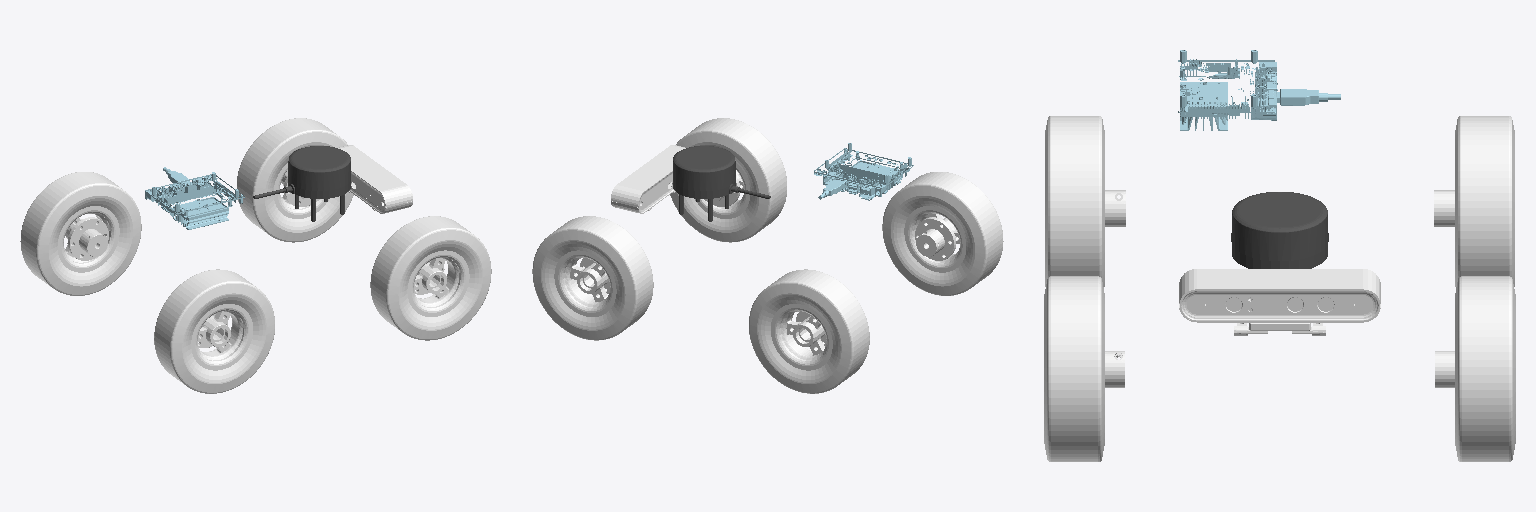
The robot description file, URDF, robot "senior_4wd_bs_robot":
<?xml version="1.0" encoding="utf-8"?>
<!-- This URDF was automatically created by SolidWorks to URDF Exporter! Originally created by [author] ([email redacted]) 
     Commit Version: 1.6.0-4-g7f85cfe  Build Version: 1.6.7995.38578
     For more information, please see http://wiki.ros.org/sw_urdf_exporter -->
<robot
  name="senior_4wd_bs_robot">
  <link
    name="base_link">
    <inertial>
      <origin
        xyz="-0.0446087958104558 0.00269481520496949 0.061341677182674"
        rpy="0 0 0" />
      <mass
        value="2.14965380626386" />
      <inertia
        ixx="0.00456533864041302"
        ixy="2.66483841196418E-05"
        ixz="-1.68910277144345E-06"
        iyy="0.00741917401925551"
        iyz="-5.24979552758434E-07"
        izz="0.0114787343272924" />
    </inertial>
    <visual>
      <origin
        xyz="0 0 0"
        rpy="0 0 0" />
      <geometry>
        <mesh
          filename="package://wheeltec_robot_urdf/meshes/senior_4wd_bs_robot_meshes/base_link.STL" />
      </geometry>
      <material
        name="">
        <color
          rgba="0.741176470588235 0.901960784313726 0.956862745098039 1" />
      </material>
    </visual>
    <collision>
      <origin
        xyz="0 0 0"
        rpy="0 0 0" />
      <geometry>
        <mesh
          filename="package://wheeltec_robot_urdf/meshes/senior_4wd_bs_robot_meshes/base_link.STL" />
      </geometry>
    </collision>
  </link>
  <link
    name="lf_wheel_link">
    <inertial>
      <origin
        xyz="-4.6620746205206E-07 -1.64222714538198E-07 -2.14743634679992E-09"
        rpy="0 0 0" />
      <mass
        value="0.700493347391114" />
      <inertia
        ixx="0.00126082592198867"
        ixy="4.29165992533056E-08"
        ixz="1.61999396410463E-08"
        iyy="0.00230181553925365"
        iyz="2.44665455605375E-08"
        izz="0.00126081885973785" />
    </inertial>
    <visual>
      <origin
        xyz="0 0 0"
        rpy="0 0 0" />
      <geometry>
        <mesh
          filename="package://wheeltec_robot_urdf/meshes/senior_4wd_bs_robot_meshes/lf_wheel_link.STL" />
      </geometry>
      <material
        name="">
        <color
          rgba="1 1 1 1" />
      </material>
    </visual>
    <collision>
      <origin
        xyz="0 0 0"
        rpy="0 0 0" />
      <geometry>
        <mesh
          filename="package://wheeltec_robot_urdf/meshes/senior_4wd_bs_robot_meshes/lf_wheel_link.STL" />
      </geometry>
    </collision>
  </link>
  <joint
    name="lf_wheel_joint"
    type="continuous">
    <origin
      xyz="0.155179518918731 0.16752320240713 0.025003"
      rpy="0 0 0" />
    <parent
      link="base_link" />
    <child
      link="lf_wheel_link" />
    <axis
      xyz="0 -1 0" />
  </joint>
  <link
    name="lb_wheel_link">
    <inertial>
      <origin
        xyz="-1.94702781119993E-07 -1.64220044479579E-07 4.61443023527797E-07"
        rpy="0 0 0" />
      <mass
        value="0.700493347391115" />
      <inertia
        ixx="0.00126082905128089"
        ixy="4.51323752033432E-08"
        ixz="1.51837323476689E-08"
        iyy="0.00230181553925365"
        iyz="2.00876840782324E-08"
        izz="0.00126081573044563" />
    </inertial>
    <visual>
      <origin
        xyz="0 0 0"
        rpy="0 0 0" />
      <geometry>
        <mesh
          filename="package://wheeltec_robot_urdf/meshes/senior_4wd_bs_robot_meshes/lb_wheel_link.STL" />
      </geometry>
      <material
        name="">
        <color
          rgba="1 1 1 1" />
      </material>
    </visual>
    <collision>
      <origin
        xyz="0 0 0"
        rpy="0 0 0" />
      <geometry>
        <mesh
          filename="package://wheeltec_robot_urdf/meshes/senior_4wd_bs_robot_meshes/lb_wheel_link.STL" />
      </geometry>
    </collision>
  </link>
  <joint
    name="lb_wheel_joint"
    type="continuous">
    <origin
      xyz="-0.157520481081269 0.167223202407132 0.024002"
      rpy="0 0 0" />
    <parent
      link="base_link" />
    <child
      link="lb_wheel_link" />
    <axis
      xyz="0 -1 0" />
  </joint>
  <link
    name="rb_wheel_link">
    <inertial>
      <origin
        xyz="-4.33820751405412E-07 1.64220044451824E-07 -4.49810529101757E-08"
        rpy="0 0 0" />
      <mass
        value="0.700493347391114" />
      <inertia
        ixx="0.00126080622456788"
        ixy="-2.36929272773458E-09"
        ixz="3.68208968939547E-09"
        iyy="0.00230181553925365"
        iyz="4.93440249161481E-08"
        izz="0.00126083855715865" />
    </inertial>
    <visual>
      <origin
        xyz="0 0 0"
        rpy="0 0 0" />
      <geometry>
        <mesh
          filename="package://wheeltec_robot_urdf/meshes/senior_4wd_bs_robot_meshes/rb_wheel_link.STL" />
      </geometry>
      <material
        name="">
        <color
          rgba="1 1 1 1" />
      </material>
    </visual>
    <collision>
      <origin
        xyz="0 0 0"
        rpy="0 0 0" />
      <geometry>
        <mesh
          filename="package://wheeltec_robot_urdf/meshes/senior_4wd_bs_robot_meshes/rb_wheel_link.STL" />
      </geometry>
    </collision>
  </link>
  <joint
    name="rb_wheel_joint"
    type="continuous">
    <origin
      xyz="-0.15752548108127 -0.165888797592868 0.023994"
      rpy="0 0 0" />
    <parent
      link="base_link" />
    <child
      link="rb_wheel_link" />
    <axis
      xyz="0 1 0" />
  </joint>
  <link
    name="rf_wheel_link">
    <inertial>
      <origin
        xyz="1.64523701495778E-07 1.64222714454931E-07 1.35831159653321E-08"
        rpy="0 0 0" />
      <mass
        value="0.700493347391115" />
      <inertia
        ixx="0.00126080581580217"
        ixy="-7.25345811553059E-09"
        ixz="4.17421610011383E-10"
        iyy="0.00230181553925365"
        iyz="4.88654651917594E-08"
        izz="0.00126083896592436" />
    </inertial>
    <visual>
      <origin
        xyz="0 0 0"
        rpy="0 0 0" />
      <geometry>
        <mesh
          filename="package://wheeltec_robot_urdf/meshes/senior_4wd_bs_robot_meshes/rf_wheel_link.STL" />
      </geometry>
      <material
        name="">
        <color
          rgba="1 1 1 1" />
      </material>
    </visual>
    <collision>
      <origin
        xyz="0 0 0"
        rpy="0 0 0" />
      <geometry>
        <mesh
          filename="package://wheeltec_robot_urdf/meshes/senior_4wd_bs_robot_meshes/rf_wheel_link.STL" />
      </geometry>
    </collision>
  </link>
  <joint
    name="rf_wheel_joint"
    type="continuous">
    <origin
      xyz="0.15517451891873 -0.16618879759287 0.024994"
      rpy="0 0 0" />
    <parent
      link="base_link" />
    <child
      link="rf_wheel_link" />
    <axis
      xyz="0 1 0" />
  </joint>
  <link
    name="camera_link">
    <inertial>
      <origin
        xyz="3.37966248653565E-07 -3.4861597831972E-07 1.07624234874787E-07"
        rpy="0 0 0" />
      <mass
        value="0.0559842512080113" />
      <inertia
        ixx="0.000130810959339214"
        ixy="1.20255128206175E-07"
        ixz="1.62335437080103E-06"
        iyy="1.91148634967895E-05"
        iyz="-2.80016755800559E-08"
        izz="0.000131387469523027" />
    </inertial>
    <visual>
      <origin
        xyz="0 0 0"
        rpy="0 0 0" />
      <geometry>
        <mesh
          filename="package://wheeltec_robot_urdf/meshes/senior_4wd_bs_robot_meshes/camera_link.STL" />
      </geometry>
      <material
        name="">
        <color
          rgba="1 1 1 1" />
      </material>
    </visual>
    <collision>
      <origin
        xyz="0 0 0"
        rpy="0 0 0" />
      <geometry>
        <mesh
          filename="package://wheeltec_robot_urdf/meshes/senior_4wd_bs_robot_meshes/camera_link.STL" />
      </geometry>
    </collision>
  </link>
  <joint
    name="camera_joint"
    type="fixed">
    <origin
      xyz="0.16083451891873 0.000745202407130424 0.089704"
      rpy="0 0 0" />
    <parent
      link="base_link" />
    <child
      link="camera_link" />
    <axis
      xyz="0 0 0" />
  </joint>
  <link
    name="laser_link">
    <inertial>
      <origin
        xyz="0.00239460672191773 -4.3623587241963E-06 0.00454035676176797"
        rpy="0 0 0" />
      <mass
        value="0.0391766918354982" />
      <inertia
        ixx="2.82296075716262E-05"
        ixy="-2.19900342511061E-09"
        ixz="1.07118438626957E-06"
        iyy="3.37984497856379E-05"
        iyz="6.83963624112367E-10"
        izz="4.50920076524856E-05" />
    </inertial>
    <visual>
      <origin
        xyz="0 0 0"
        rpy="0 0 0" />
      <geometry>
        <mesh
          filename="package://wheeltec_robot_urdf/meshes/senior_4wd_bs_robot_meshes/laser.STL" />
      </geometry>
      <material
        name="">
        <color
          rgba="0.376470588235294 0.376470588235294 0.376470588235294 1" />
      </material>
    </visual>
    <collision>
      <origin
        xyz="0 0 0"
        rpy="0 0 0" />
      <geometry>
        <mesh
          filename="package://wheeltec_robot_urdf/meshes/senior_4wd_bs_robot_meshes/laser.STL" />
      </geometry>
    </collision>
  </link>
  <joint
    name="laser_joint"
    type="fixed">
    <origin
      xyz="0.0911278646206001 0.000667202405493635 0.11102418374143"
      rpy="0 0 3.14159265358979" />
    <parent
      link="base_link" />
    <child
      link="laser_link" />
    <axis
      xyz="0 0 0" />
  </joint>
  <link
    name="controller_link">
    <inertial>
      <origin
        xyz="-0.0345544164547887 0.0884587575058604 -0.00475090869119181"
        rpy="0 0 0" />
      <mass
        value="0.00500280353665619" />
      <inertia
        ixx="5.5683668655799E-07"
        ixy="-4.85741212386724E-14"
        ixz="-5.07877537956953E-15"
        iyy="9.83824150757691E-08"
        iyz="3.20815042510472E-14"
        izz="6.06554886179191E-07" />
    </inertial>
    <visual>
      <origin
        xyz="0 0 0"
        rpy="0 0 0" />
      <geometry>
        <mesh
          filename="package://wheeltec_robot_urdf/meshes/senior_4wd_bs_robot_meshes/controller_link.STL" />
      </geometry>
      <material
        name="">
        <color
          rgba="0.741176470588235 0.901960784313726 0.956862745098039 1" />
      </material>
    </visual>
    <collision>
      <origin
        xyz="0 0 0"
        rpy="0 0 0" />
      <geometry>
        <mesh
          filename="package://wheeltec_robot_urdf/meshes/senior_4wd_bs_robot_meshes/controller_link.STL" />
      </geometry>
    </collision>
  </link>
  <joint
    name="controller_joint"
    type="fixed">
    <origin
      xyz="-0.072154314146756 -0.0796936307243407 0.155"
      rpy="0 0 0" />
    <parent
      link="base_link" />
    <child
      link="controller_link" />
    <axis
      xyz="0 0 0" />
  </joint>
</robot>

--- Render facts (derived) ---
The picture shows the robot from 3 angles, left to right: view 1: azimuth 30°, elevation 25°; view 2: azimuth 150°, elevation 25°; view 3: azimuth 270°, elevation 25°; orthographic projection.
Model senior_4wd_bs_robot with 8 links and 7 joints (4 continuous, 3 fixed), rooted at base_link, posed all joints at 0.
Links seen in each view (by area): view 1: rb_wheel_link, rf_wheel_link, lb_wheel_link, lf_wheel_link, laser_link, controller_link, camera_link; view 2: lf_wheel_link, lb_wheel_link, rb_wheel_link, rf_wheel_link, laser_link, controller_link, camera_link; view 3: lf_wheel_link, rf_wheel_link, camera_link, lb_wheel_link, rb_wheel_link, laser_link, controller_link.
Boxes of the visible links, box(x1,y1,x2,y2) form: rb_wheel_link: box(154, 269, 274, 393); rf_wheel_link: box(370, 216, 491, 340); lb_wheel_link: box(20, 172, 141, 295); lf_wheel_link: box(237, 118, 353, 242); laser_link: box(253, 146, 350, 221); controller_link: box(145, 167, 244, 229); camera_link: box(338, 145, 412, 213); lf_wheel_link: box(532, 216, 653, 340); lb_wheel_link: box(749, 269, 869, 393); rb_wheel_link: box(882, 172, 1003, 295); rf_wheel_link: box(670, 118, 786, 242); laser_link: box(673, 146, 770, 221); controller_link: box(814, 143, 913, 200); camera_link: box(611, 145, 685, 213); lf_wheel_link: box(1435, 276, 1515, 461); rf_wheel_link: box(1044, 276, 1124, 461); camera_link: box(1179, 269, 1380, 335); lb_wheel_link: box(1434, 116, 1514, 286); rb_wheel_link: box(1045, 116, 1125, 286); laser_link: box(1231, 192, 1328, 268); controller_link: box(1178, 50, 1340, 130).
Size in the robot's own frame: 0.4646 by 0.3849 by 0.217 metres.
7 mesh visuals loaded from 8 distinct referenced files (7 binary STL); not drawn: 1 (reference not matched to a file when rendering).